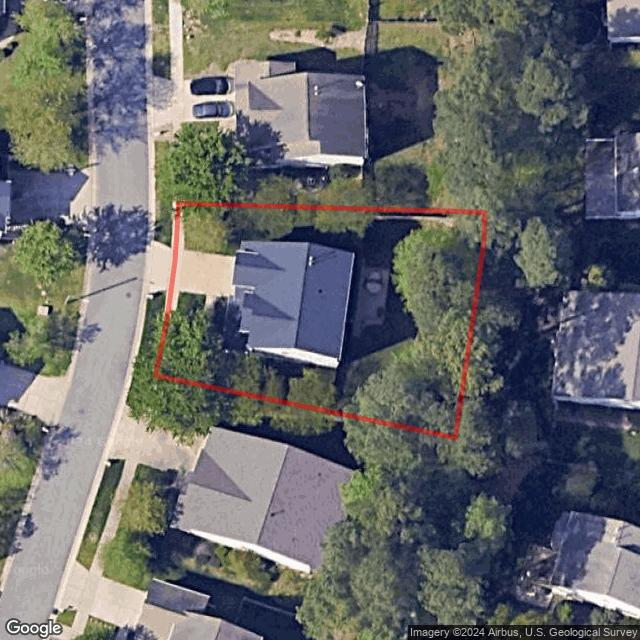Driveway: (170, 249, 237, 298)
Extra-Driveway: (148, 237, 174, 295)
Extra-Lawn: (136, 290, 162, 377), (154, 201, 173, 247)
Extra-Sidewalk: (149, 290, 171, 377), (170, 202, 179, 247)
House: (229, 240, 356, 372)
Lawn: (155, 203, 485, 436)
Other: (351, 233, 481, 438), (350, 264, 391, 338)
Sidewalk: (157, 290, 180, 378), (176, 202, 185, 249)
